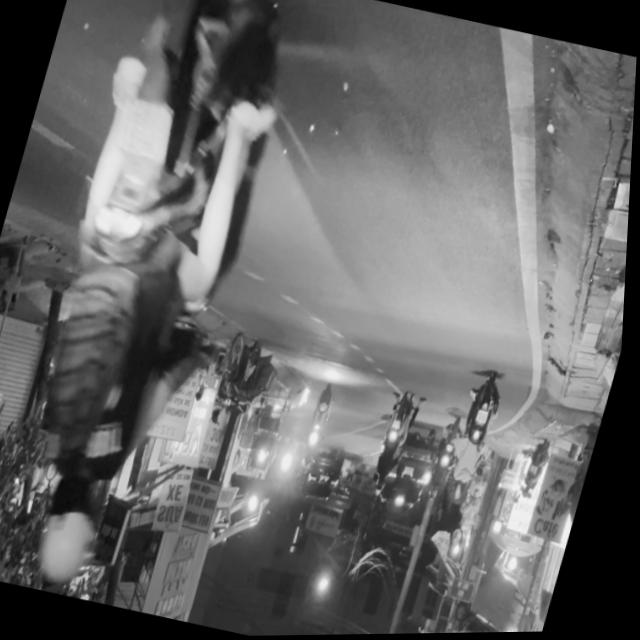helmet: (30, 459, 122, 589)
licenseplate: (0, 0, 319, 607)
nohelmet: (107, 97, 176, 161)
